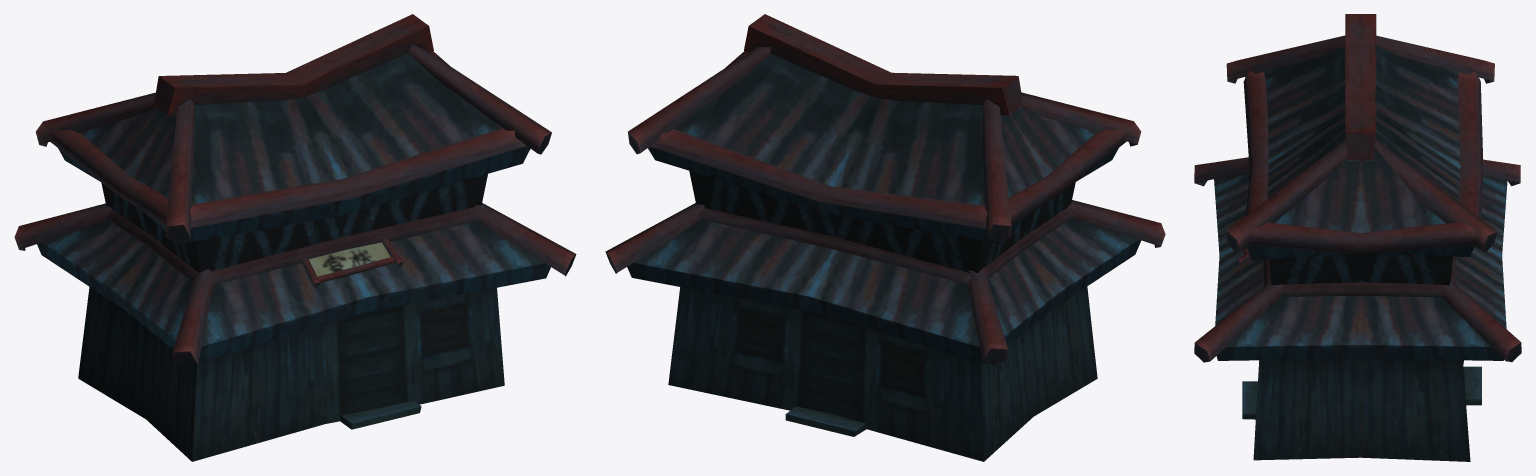
The model's file is pokezhan.FBX.
The picture shows the model from 3 angles, left to right: view 1: azimuth 30°, elevation 25°; view 2: azimuth 150°, elevation 25°; view 3: azimuth 270°, elevation 25°; orthographic projection. The views are drawn at different scales.
Parts seen in each view (by area): view 1: pokezhan; view 2: pokezhan; view 3: pokezhan.
Part boxes in pixels (box(x1,y1,x2,y2)): pokezhan: box(14, 14, 576, 461); pokezhan: box(605, 14, 1165, 461); pokezhan: box(1194, 14, 1521, 461).
Bounding box in the file's own units: 1085 × 799 × 852.
